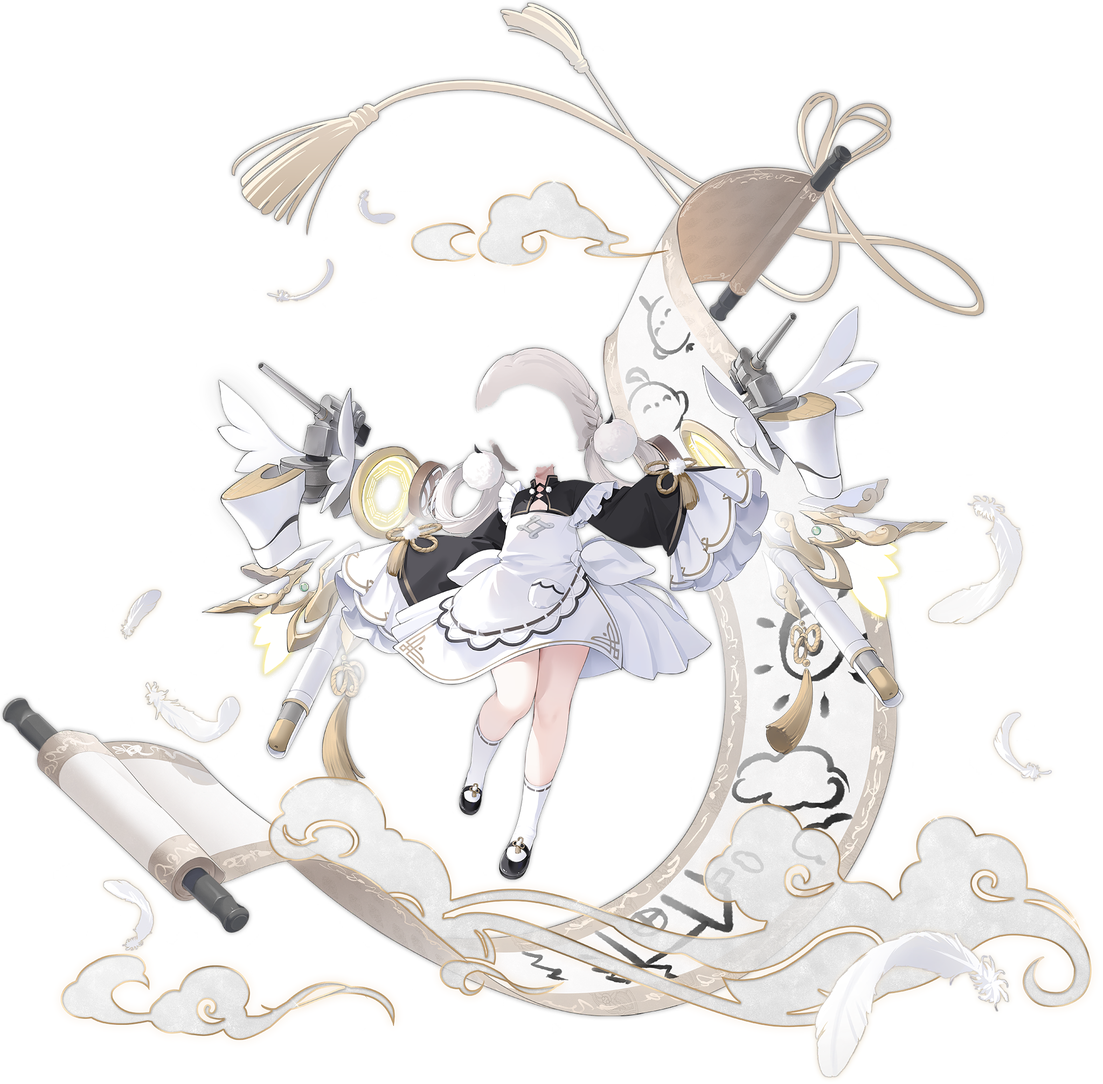person: (136, 2, 945, 1027)
